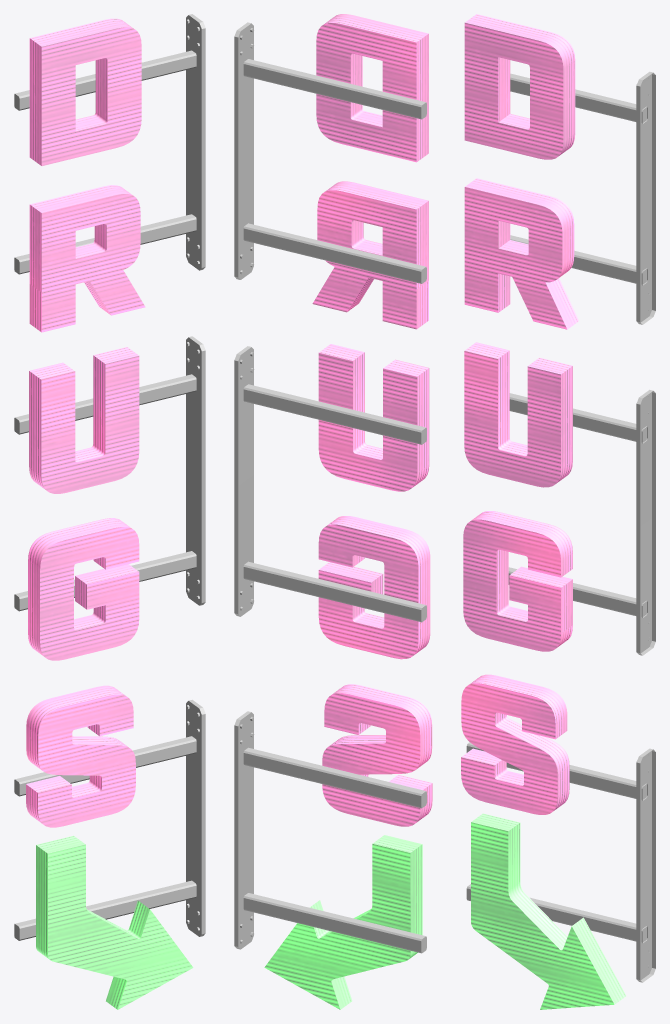
The model's file is KB3D_CBP_NeonSign_V.fbx.
The picture shows the model from 3 angles, left to right: view 1: azimuth 30°, elevation 25°; view 2: azimuth 150°, elevation 25°; view 3: azimuth 330°, elevation 25°; orthographic projection.
Visible parts, largest first — view 1: KB3D_CBP_NeonSign_V_Main; view 2: KB3D_CBP_NeonSign_V_Main; view 3: KB3D_CBP_NeonSign_V_Main.
Boxes of the visible parts, left/top/right/bottom form: KB3D_CBP_NeonSign_V_Main: left=14, top=14, right=205, bottom=1009; KB3D_CBP_NeonSign_V_Main: left=234, top=14, right=432, bottom=1009; KB3D_CBP_NeonSign_V_Main: left=461, top=14, right=655, bottom=1009.
Bounding box in the file's own units: 158 × 819 × 34.3.
